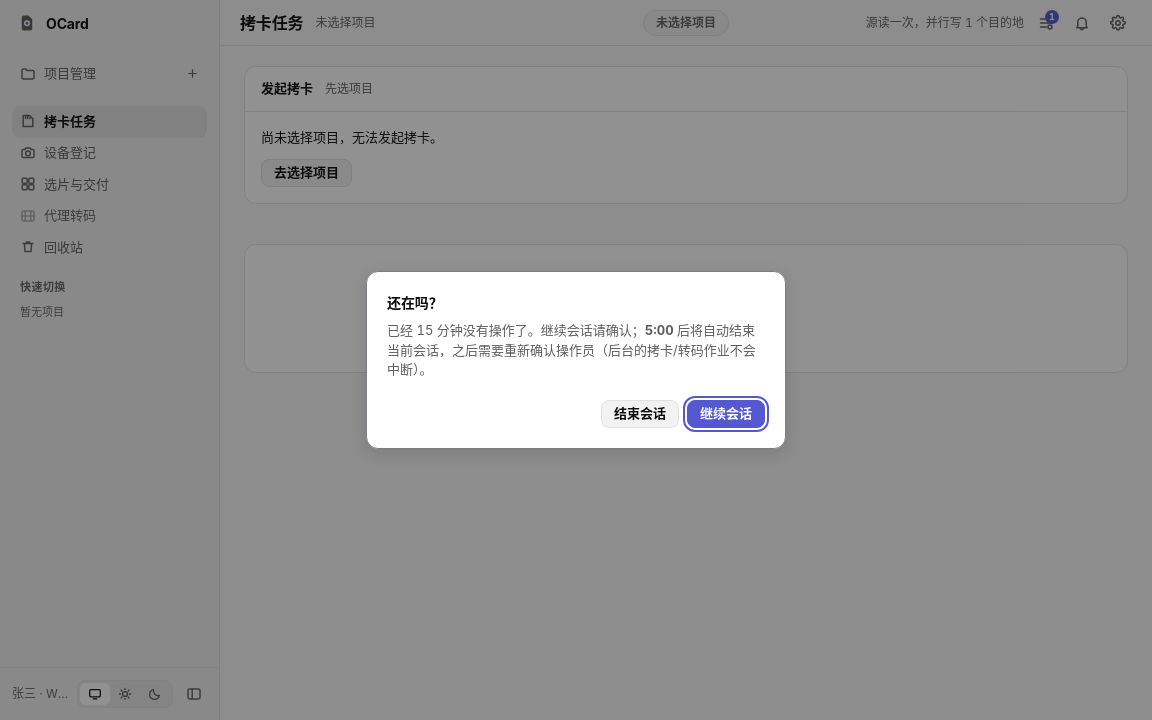
Test case: 操作员确认门 › 换新操作人:写回工作站配置后恢复,侧栏显示新名字
Click the button with test id "session-end" at (640, 414), box [601,400,679,428]
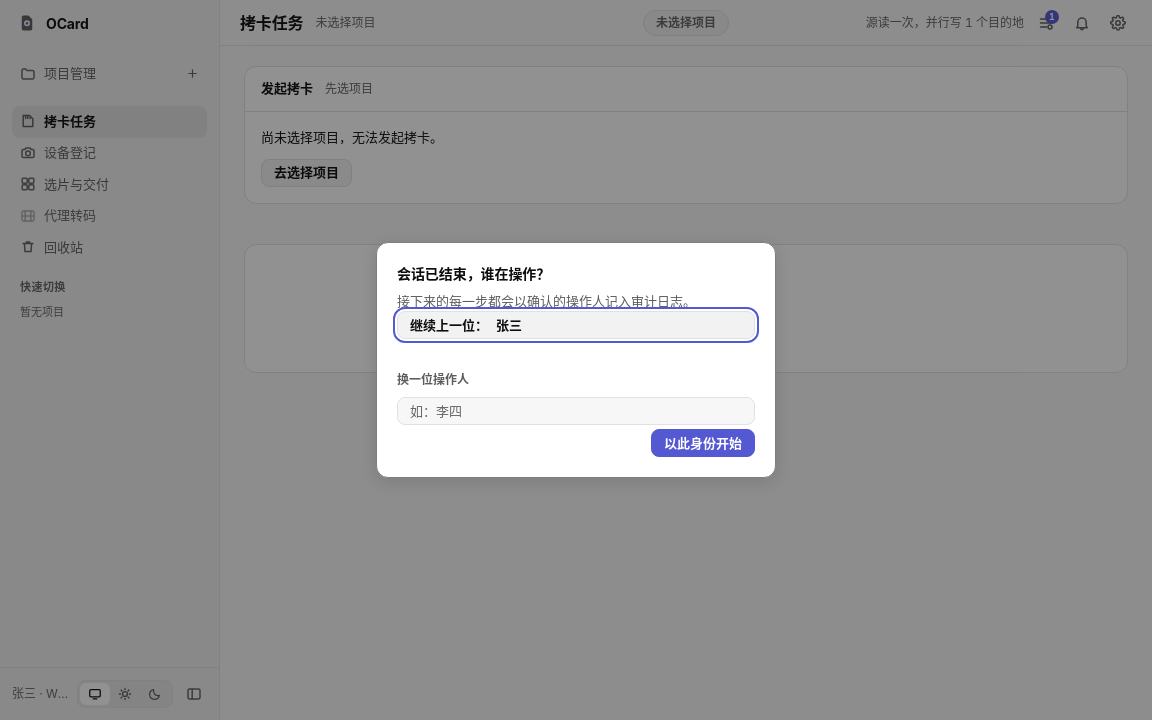
Type "李四" into the field with test id "session-gate-operator" at (576, 411), box [397,397,755,425]
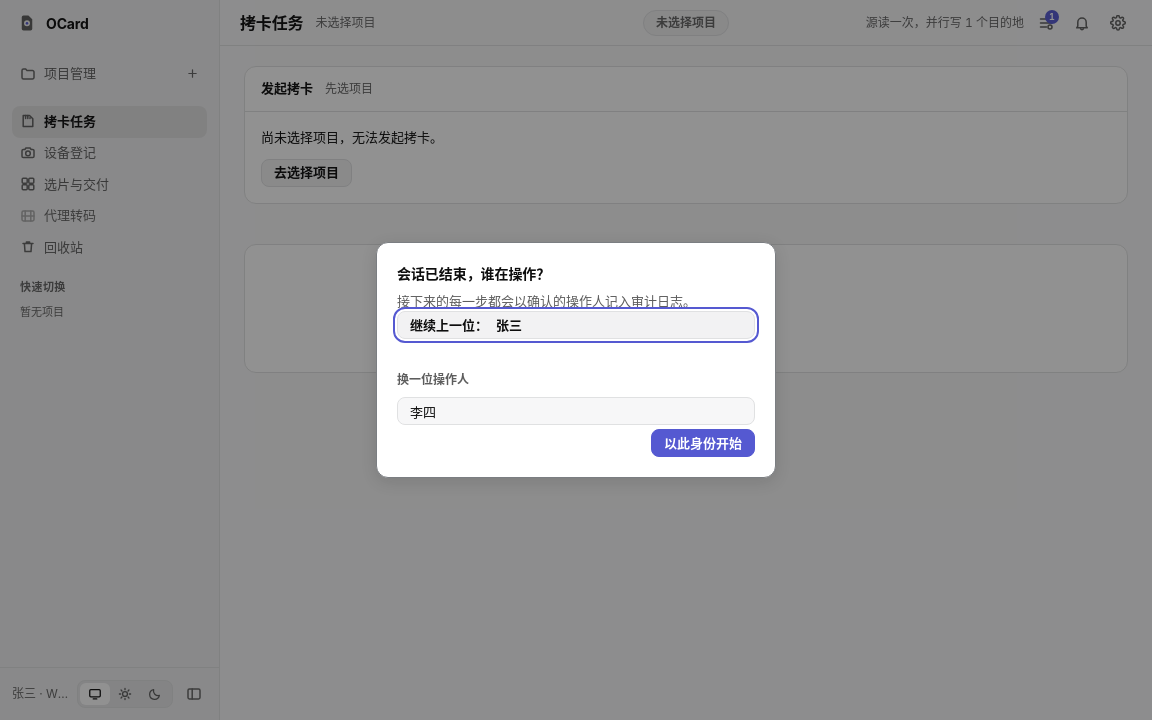
Click the button with test id "session-gate-start" at (703, 443), box [651,429,755,457]
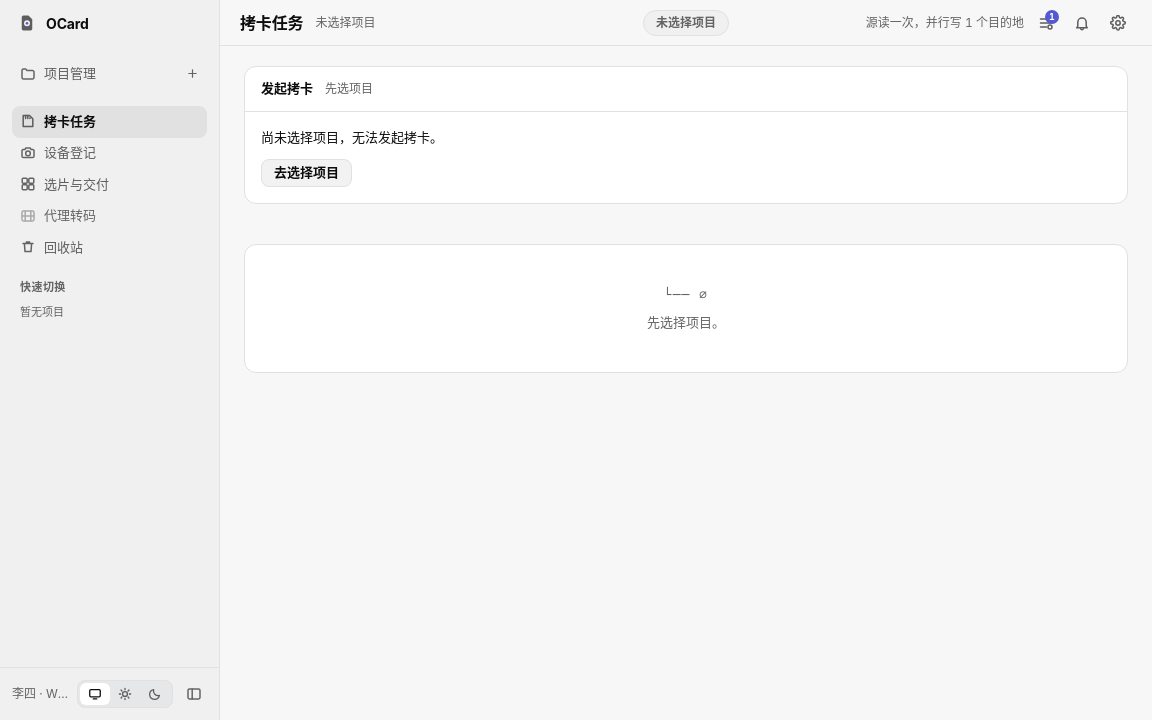
Result: the element with test id "session-gate" is gone
Result: the button "李四 · WS-TEST" is shown at [12,685,69,703]
